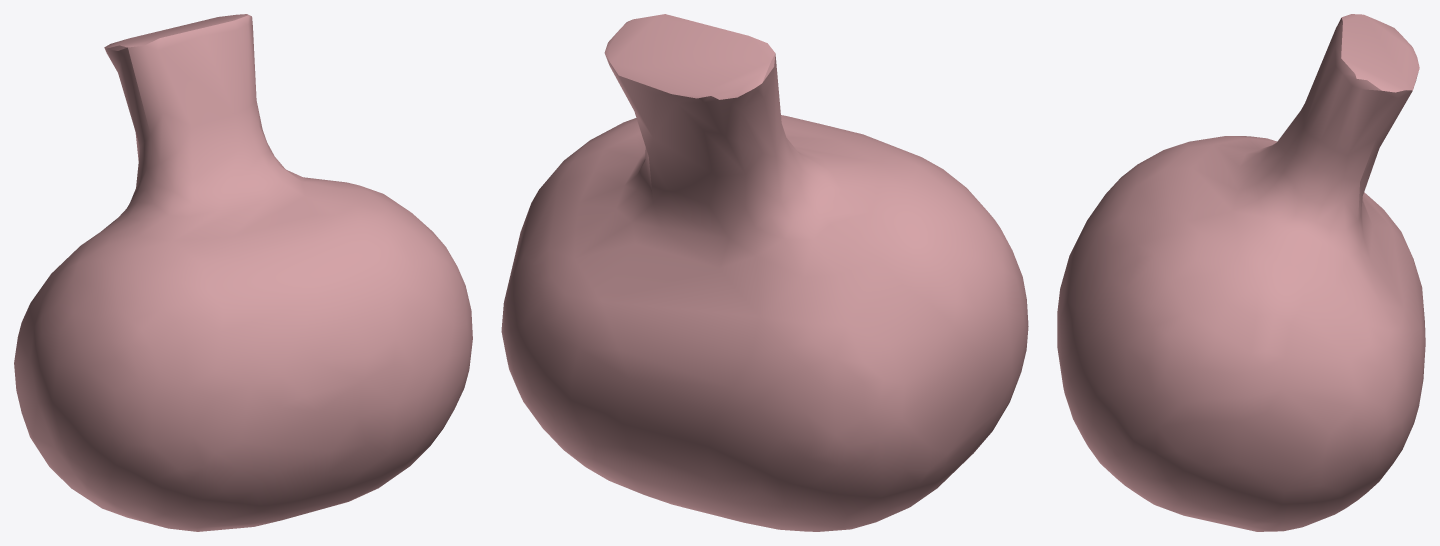
Rendered from fma13889_fj3848.glb.
The picture shows the model from 3 angles, left to right: view 1: azimuth 30°, elevation 25°; view 2: azimuth 150°, elevation 25°; view 3: azimuth 270°, elevation 25°; orthographic projection. The views are drawn at different scales.
Parts seen in each view (by area): view 1: FMA13889_FJ3848; view 2: FMA13889_FJ3848; view 3: FMA13889_FJ3848.
Boxes of the visible parts, <box> form: FMA13889_FJ3848: <box>14,14,472,531</box>; FMA13889_FJ3848: <box>501,14,1028,531</box>; FMA13889_FJ3848: <box>1057,14,1425,531</box>.
Bounding box in the file's own units: 0.0123 × 0.0129 × 0.00946.
